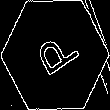P_SW: (28, 26, 82, 84)
